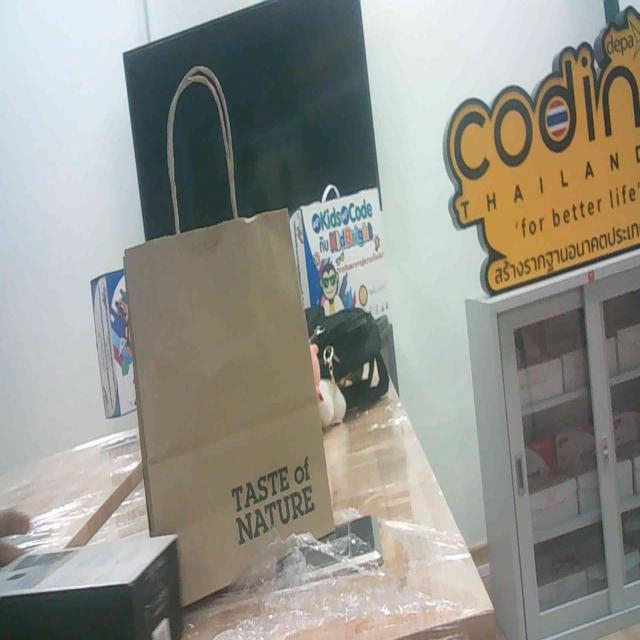bag: (137, 178, 328, 577)
